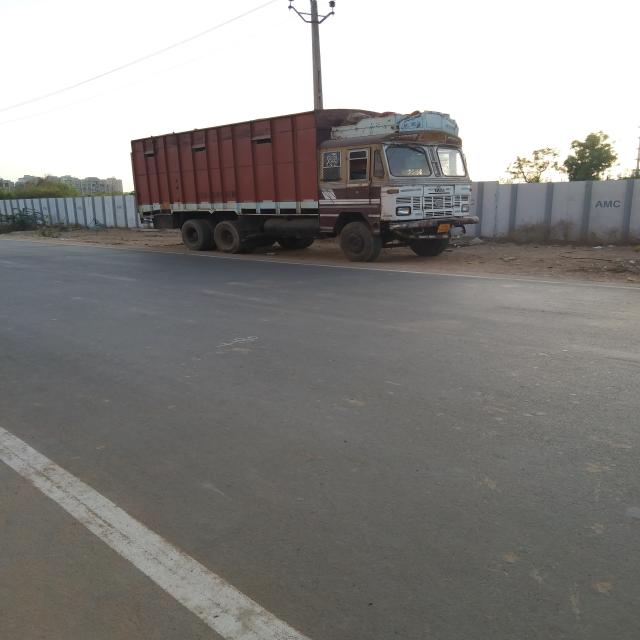Truck: (119, 90, 524, 285)
